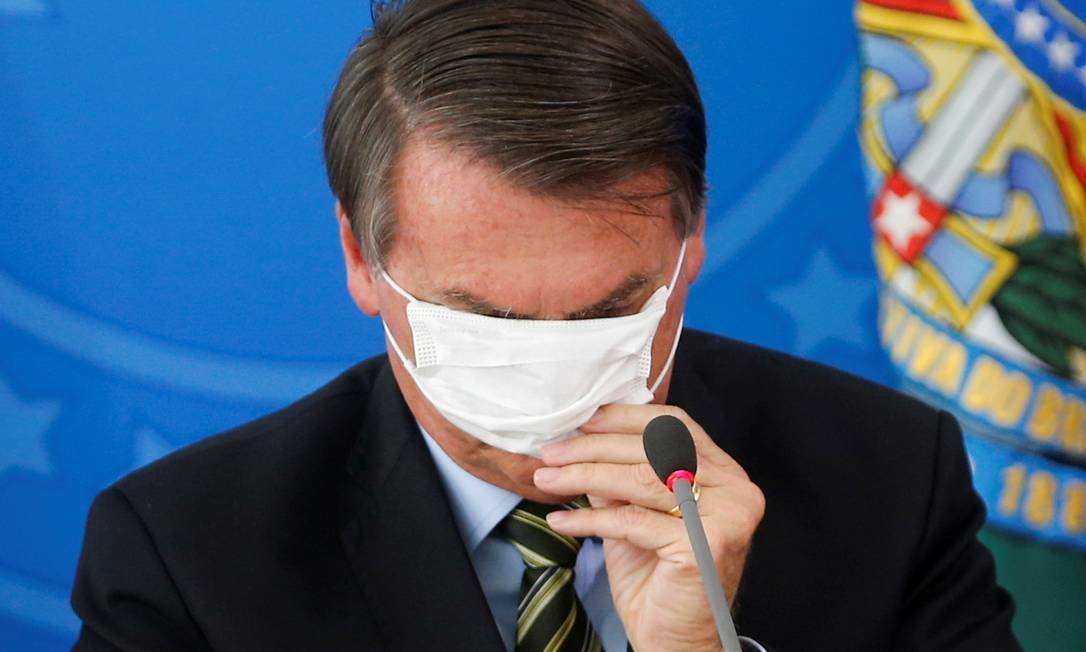mask_weared_incorrect: (332, 158, 716, 498)
